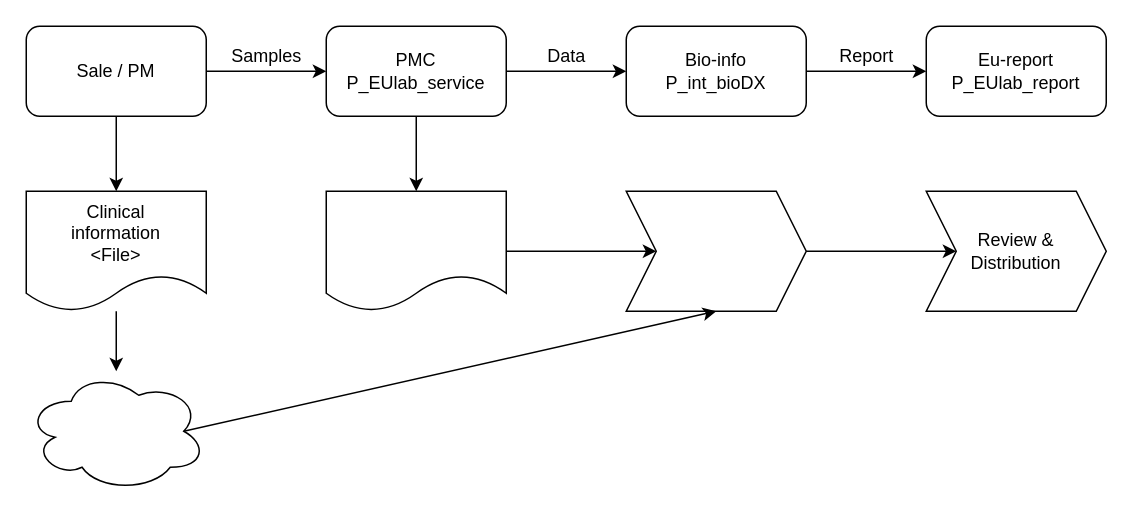
Some shapes in this 1133 by 518 pixel diagram are drawn without their labels. The shapes that lost their labels are listed below. From the top down, each one's centre as x and y in pixels, then its label:
At [415,250]: "Sequencing information <File>".
At [715,250]: "Analysis".
At [115,430]: "VClab".
